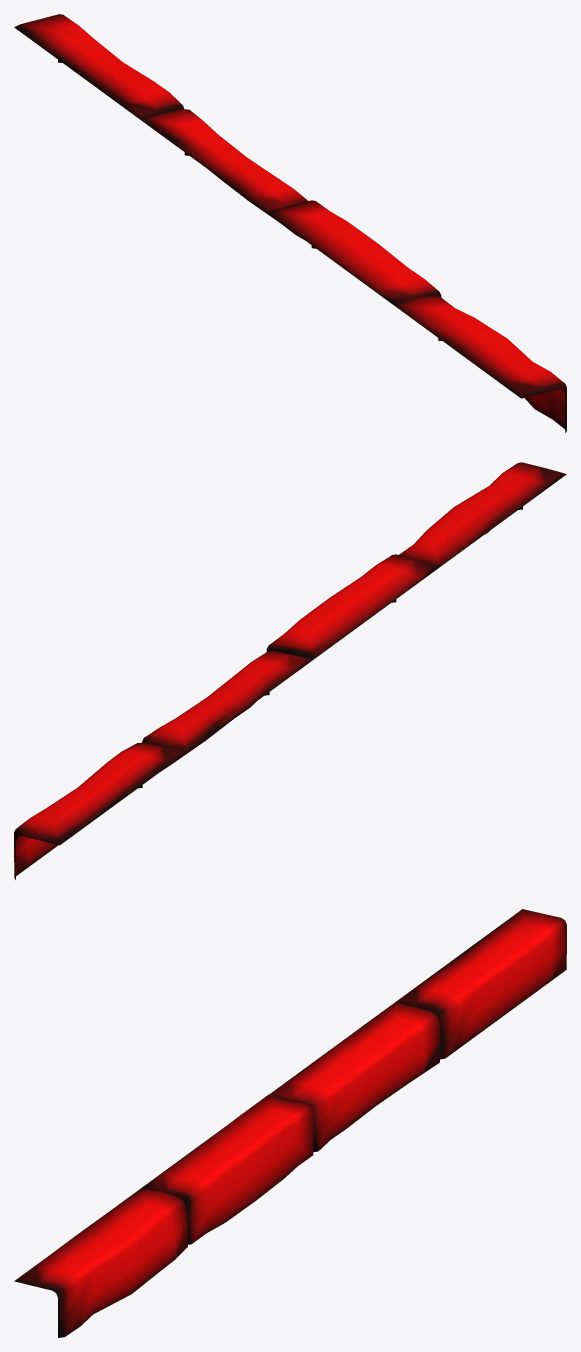
File: curb_4_b.fbx
3 views of the same model, one above another, from view 1: azimuth 30°, elevation 25°; view 2: azimuth 150°, elevation 25°; view 3: azimuth 330°, elevation 25° (orthographic).
Visible parts, largest first — view 1: curb_4_b; view 2: curb_4_b; view 3: curb_4_b.
Part boxes in pixels (x1,y1,x2,y2): curb_4_b: (14,14,566,432); curb_4_b: (14,462,566,879); curb_4_b: (14,909,566,1337).
Bounding box in the file's own units: 0.2481 × 0.2267 × 4.
